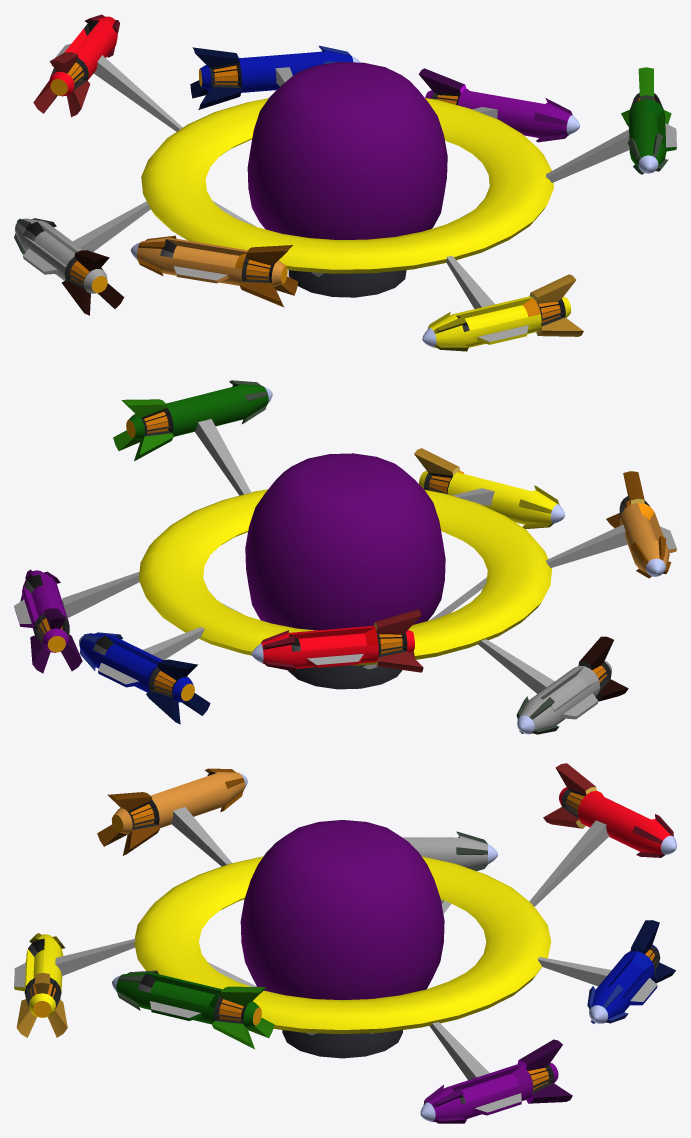
File: BrinquedoFoguete.fbx
3 renders of one model, top to bottom at view 1: azimuth 30°, elevation 25°; view 2: azimuth 150°, elevation 25°; view 3: azimuth 270°, elevation 25°, orthographic.
Visible parts, largest first — view 1: Brinquedo_FogueteLOD0, Brinquedo_FogueteLaranja, Brinquedo_FogueteAmarelo, Brinquedo_FogueteCinza, Brinquedo_FogueteLAzul, Brinquedo_FogueteLRoxo, Brinquedo_FogueteLVermelho, Brinquedo_FogueteLVerde; view 2: Brinquedo_FogueteLOD0, Brinquedo_FogueteLVermelho, Brinquedo_FogueteLVerde, Brinquedo_FogueteLAzul, Brinquedo_FogueteCinza, Brinquedo_FogueteAmarelo, Brinquedo_FogueteLRoxo, Brinquedo_FogueteLaranja; view 3: Brinquedo_FogueteLOD0, Brinquedo_FogueteLVerde, Brinquedo_FogueteLRoxo, Brinquedo_FogueteLaranja, Brinquedo_FogueteLVermelho, Brinquedo_FogueteLAzul, Brinquedo_FogueteAmarelo, Brinquedo_FogueteCinza.
Boxes of the visible parts, <box> form: Brinquedo_FogueteLOD0: <box>73,55,629,308</box>; Brinquedo_FogueteLaranja: <box>130,235,298,307</box>; Brinquedo_FogueteAmarelo: <box>422,274,583,351</box>; Brinquedo_FogueteCinza: <box>14,218,124,315</box>; Brinquedo_FogueteLAzul: <box>190,45,360,109</box>; Brinquedo_FogueteLRoxo: <box>418,68,579,142</box>; Brinquedo_FogueteLVermelho: <box>33,14,119,117</box>; Brinquedo_FogueteLVerde: <box>621,67,676,174</box>; Brinquedo_FogueteLOD0: <box>62,419,627,693</box>; Brinquedo_FogueteLVermelho: <box>251,609,423,672</box>; Brinquedo_FogueteLVerde: <box>113,380,272,460</box>; Brinquedo_FogueteLAzul: <box>79,632,210,724</box>; Brinquedo_FogueteCinza: <box>516,636,628,734</box>; Brinquedo_FogueteAmarelo: <box>414,448,564,529</box>; Brinquedo_FogueteLRoxo: <box>14,569,82,673</box>; Brinquedo_FogueteLaranja: <box>606,471,676,578</box>; Brinquedo_FogueteLOD0: <box>55,807,611,1080</box>; Brinquedo_FogueteLVerde: <box>112,970,274,1049</box>; Brinquedo_FogueteLRoxo: <box>420,1039,572,1123</box>; Brinquedo_FogueteLaranja: <box>97,768,247,855</box>; Brinquedo_FogueteLVermelho: <box>543,763,676,857</box>; Brinquedo_FogueteLAzul: <box>587,920,675,1023</box>; Brinquedo_FogueteAmarelo: <box>14,933,67,1037</box>; Brinquedo_FogueteCinza: <box>402,831,497,870</box>.
Size of the model in its own units: 3513 by 1153 by 3590.
1 material, 1 textured.
